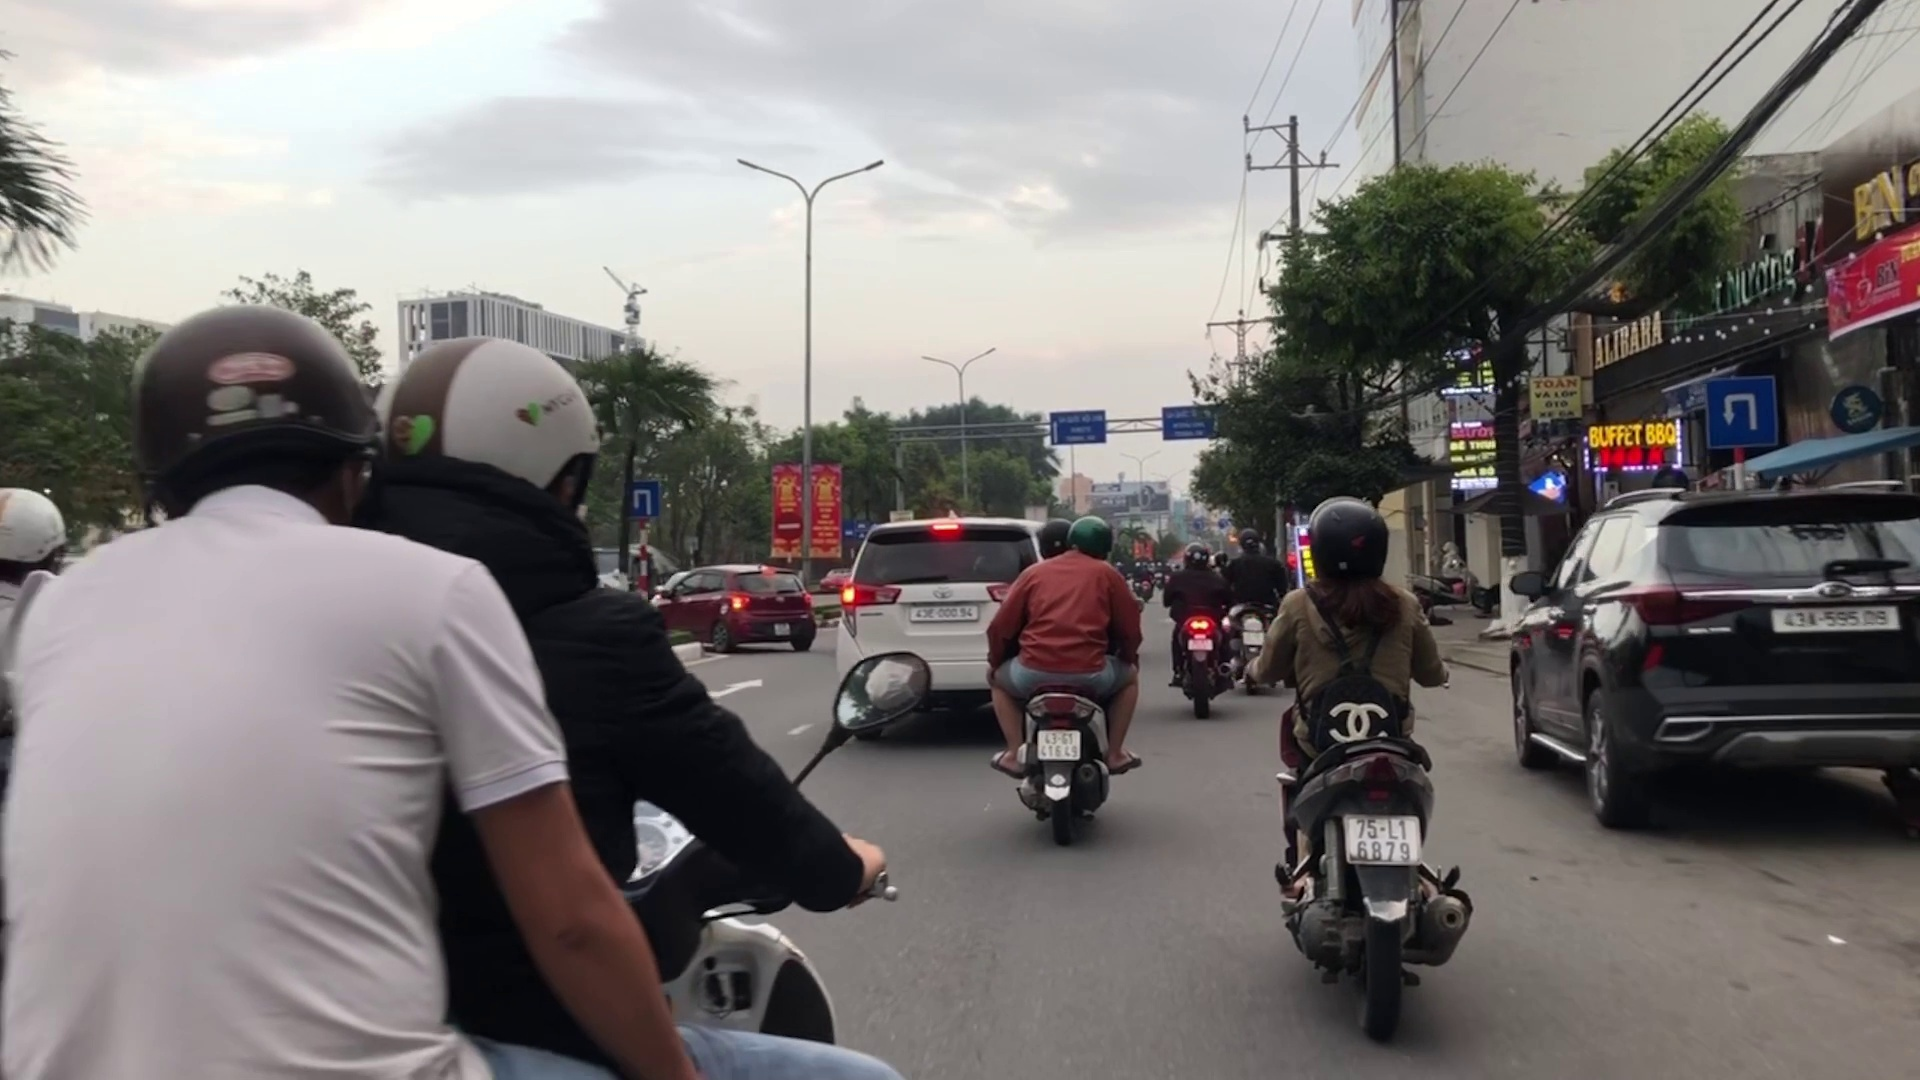Bien khac: (1702, 375, 1782, 447), (632, 484, 658, 518)
